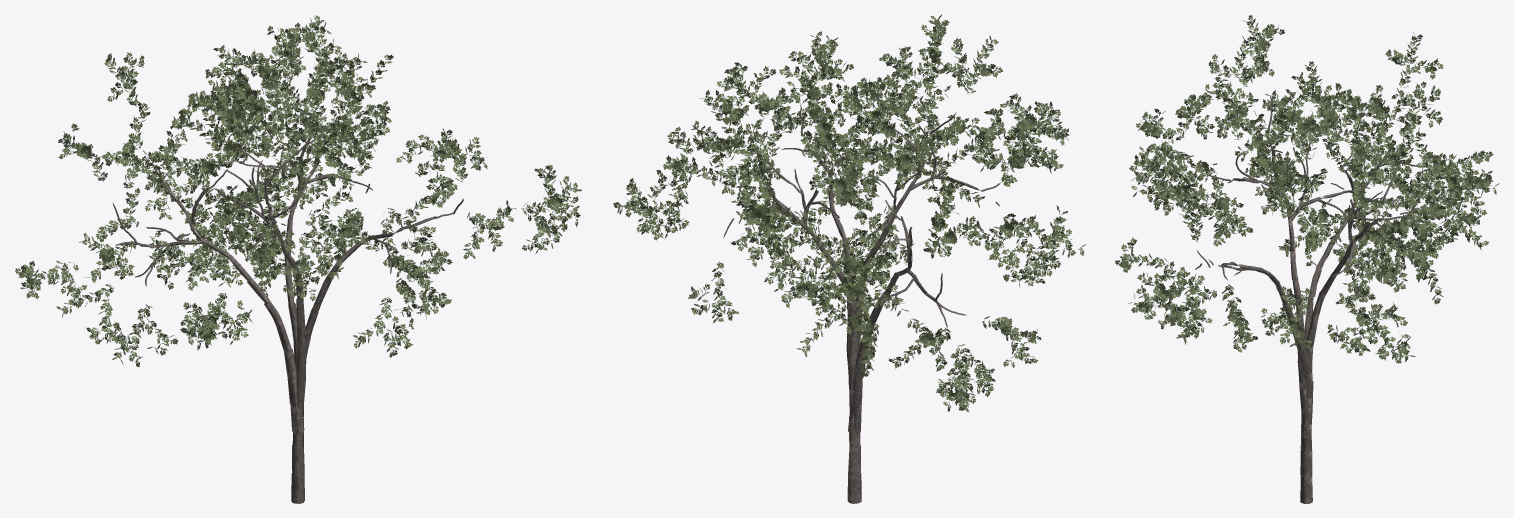
File: elm1.glb
3 renders of one model, left to right at view 1: azimuth 30°, elevation 25°; view 2: azimuth 150°, elevation 25°; view 3: azimuth 270°, elevation 25°, orthographic. The views are drawn at different scales.
Visible parts, largest first — view 1: leaves, bark; view 2: leaves, bark; view 3: leaves, bark.
Part boxes in pixels (bbox=[...]): leaves: bbox=[15, 15, 581, 367]; bark: bbox=[112, 106, 463, 503]; leaves: bbox=[613, 14, 1086, 412]; bark: bbox=[723, 111, 1000, 503]; leaves: bbox=[1115, 15, 1499, 363]; bark: bbox=[1195, 95, 1424, 503].
Bounding box in the file's own units: 23.31 × 24.83 × 19.63.
2 materials, 2 textured.
